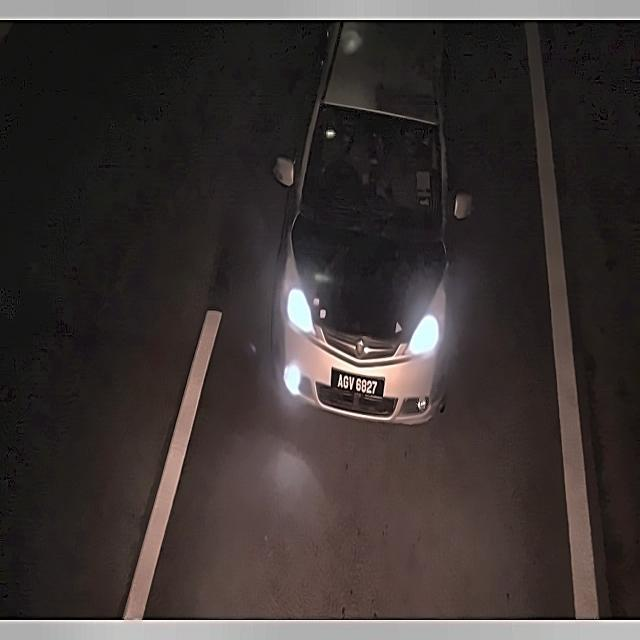car: (330, 367, 387, 402)
